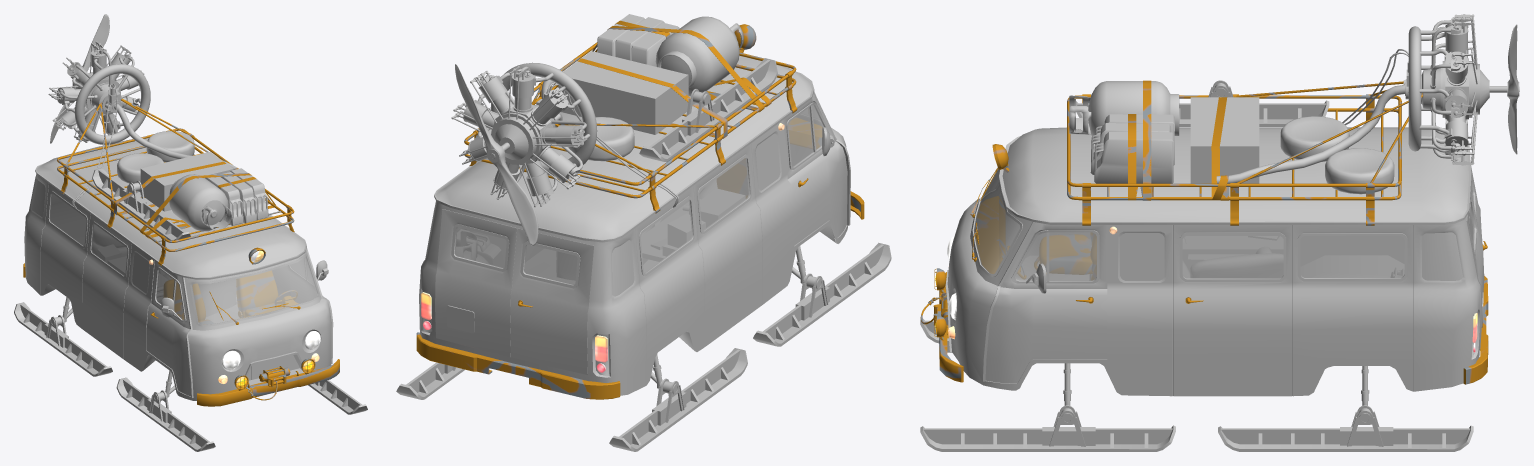
3 views of the same model, side by side, from view 1: azimuth 30°, elevation 25°; view 2: azimuth 150°, elevation 25°; view 3: azimuth 270°, elevation 25° (orthographic). The views are drawn at different scales.
Parts seen in each view (by area): view 1: body_23, glass_24, engine_4, top frame_19, gas tank.001_30, crate_17, glider.001_38, glider.003_42, glider.004_16, front bumper_2, seat_1, seat.001_44 (+11 smaller); view 2: body_23, engine_4, glass_24, crate_17, top frame_19, gas tank.001_30, glider.003_42, glider.001_38, glider.004_16, rear bumper_3, propeller_9, wheel.001_5 (+15 smaller); view 3: body_23, glass_24, engine_4, top frame_19, glider.002_40, glider_15, crate_17, gas tank.001_30, jerry can.001_34, wheel.002_6, wheel.001_5, seat.001_44 (+11 smaller).
Boxes of the visible parts, box(x1,y1,x2,y2) form: body_23: box(24, 138, 333, 400); glass_24: box(49, 193, 317, 324); engine_4: box(48, 41, 236, 208); top frame_19: box(57, 98, 294, 265); gas tank.001_30: box(169, 174, 231, 231); crate_17: box(140, 152, 233, 211); glider.001_38: box(116, 377, 215, 451); glider.003_42: box(14, 302, 112, 376); glider.004_16: box(92, 168, 190, 240); front bumper_2: box(197, 359, 339, 406); seat_1: box(236, 271, 282, 317); seat.001_44: box(159, 270, 235, 316); body_23: box(419, 55, 850, 395); engine_4: box(451, 62, 678, 207); glass_24: box(454, 105, 823, 284); crate_17: box(558, 51, 688, 134); top frame_19: box(464, 42, 797, 213); gas tank.001_30: box(655, 16, 743, 96); glider.003_42: box(609, 348, 747, 451); glider.001_38: box(753, 242, 891, 346); glider.004_16: box(639, 58, 777, 161); rear bumper_3: box(416, 332, 620, 399); propeller_9: box(455, 64, 538, 245); wheel.001_5: box(568, 117, 634, 161); body_23: box(945, 127, 1484, 396); glass_24: box(974, 169, 1474, 280); engine_4: box(1216, 14, 1489, 183); top frame_19: box(1067, 81, 1423, 225); glider.002_40: box(1218, 405, 1473, 451); glider_15: box(920, 405, 1175, 451); crate_17: box(1190, 97, 1259, 183); gas tank.001_30: box(1069, 81, 1179, 143); jerry can.001_34: box(1094, 132, 1173, 183); wheel.002_6: box(1325, 148, 1394, 194); wheel.001_5: box(1280, 116, 1349, 161); seat.001_44: box(1183, 247, 1282, 277).
Size of the model in its own units: 0.8735 by 1.33 by 1.87.
